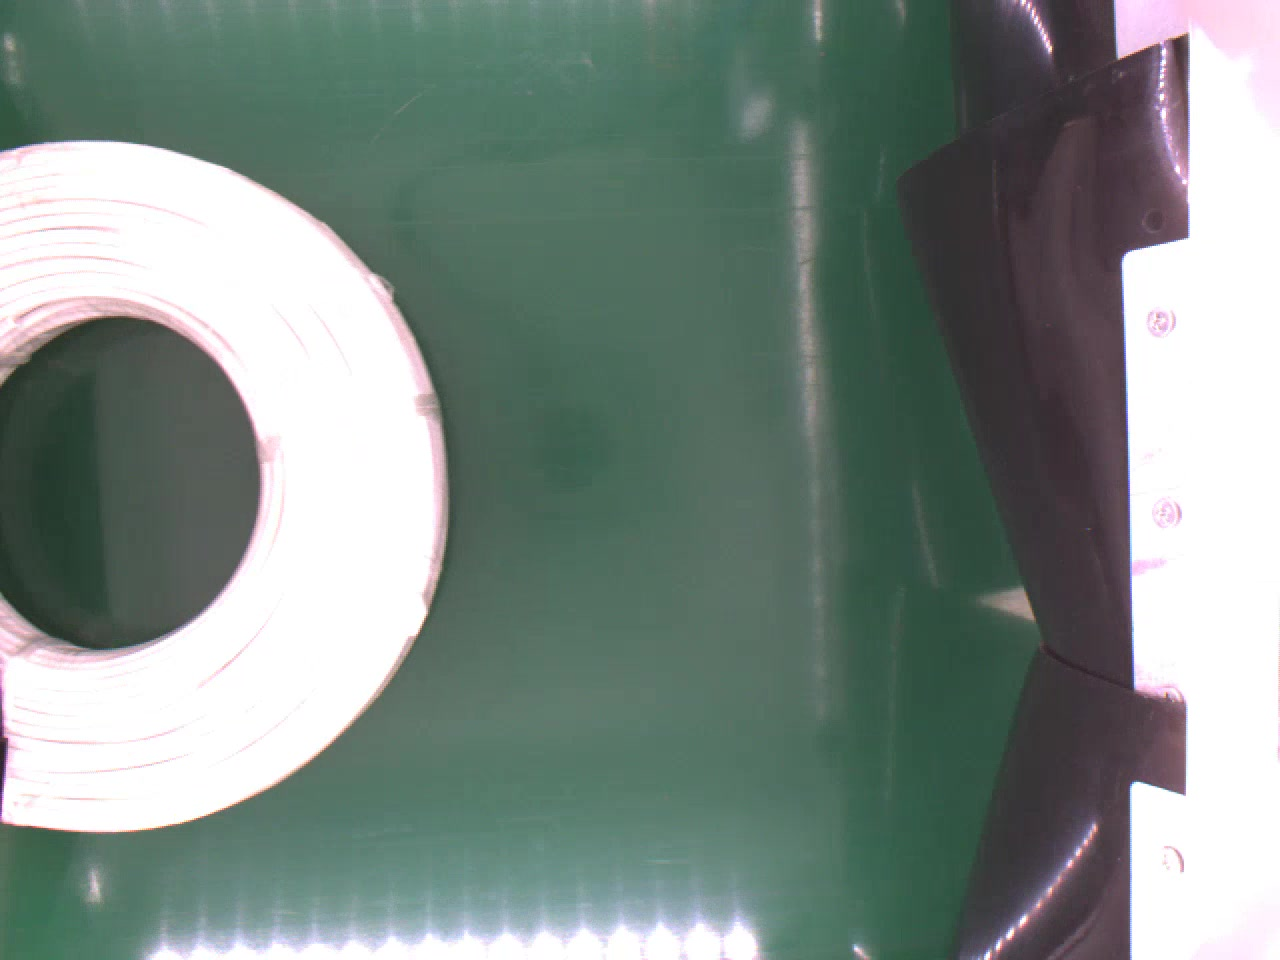white: (0, 137, 456, 835)
